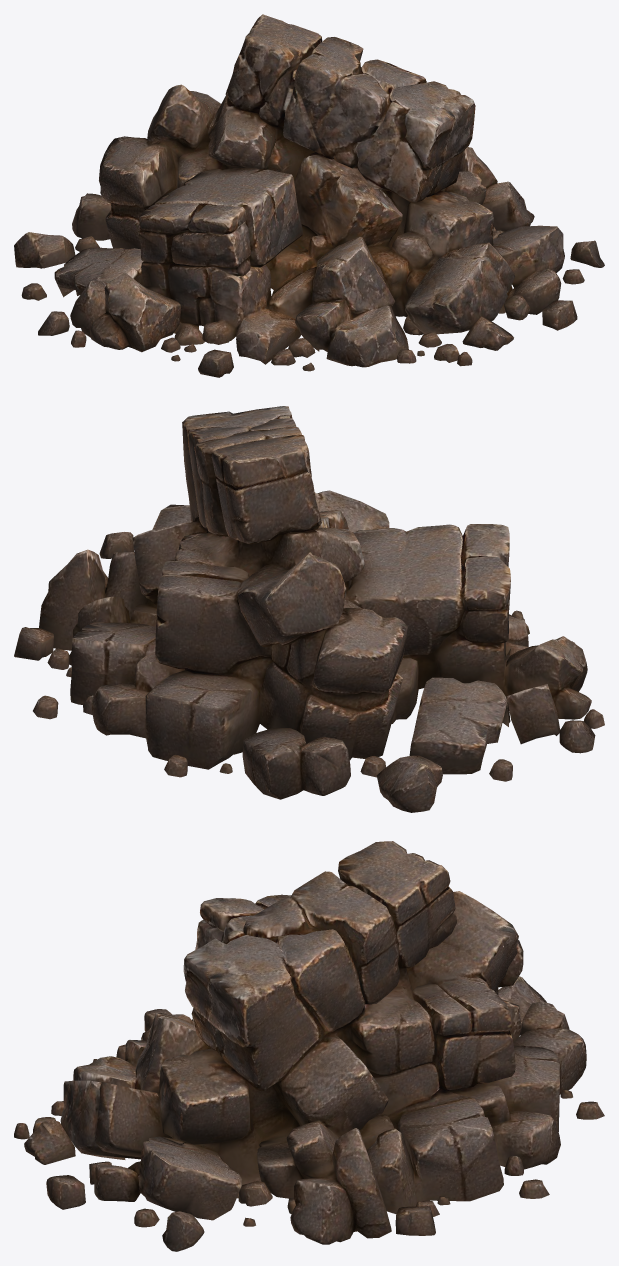
File: prop_rubble.glb
The picture shows the model from 3 angles, top to bottom: view 1: azimuth 30°, elevation 25°; view 2: azimuth 150°, elevation 25°; view 3: azimuth 270°, elevation 25°; orthographic projection. The views are drawn at different scales.
Parts seen in each view (by area): view 1: tripo_node_c5ca36c5-fc45-42c0-9392-c0123ecfdc09; view 2: tripo_node_c5ca36c5-fc45-42c0-9392-c0123ecfdc09; view 3: tripo_node_c5ca36c5-fc45-42c0-9392-c0123ecfdc09.
Part boxes in pixels (left/top/right/bottom): tripo_node_c5ca36c5-fc45-42c0-9392-c0123ecfdc09: left=14, top=14, right=604, bottom=377; tripo_node_c5ca36c5-fc45-42c0-9392-c0123ecfdc09: left=14, top=406, right=604, bottom=812; tripo_node_c5ca36c5-fc45-42c0-9392-c0123ecfdc09: left=14, top=841, right=604, bottom=1251.
Bounding box in the file's own units: 0.9995 × 0.4536 × 0.8853.
1 material, 1 textured.
